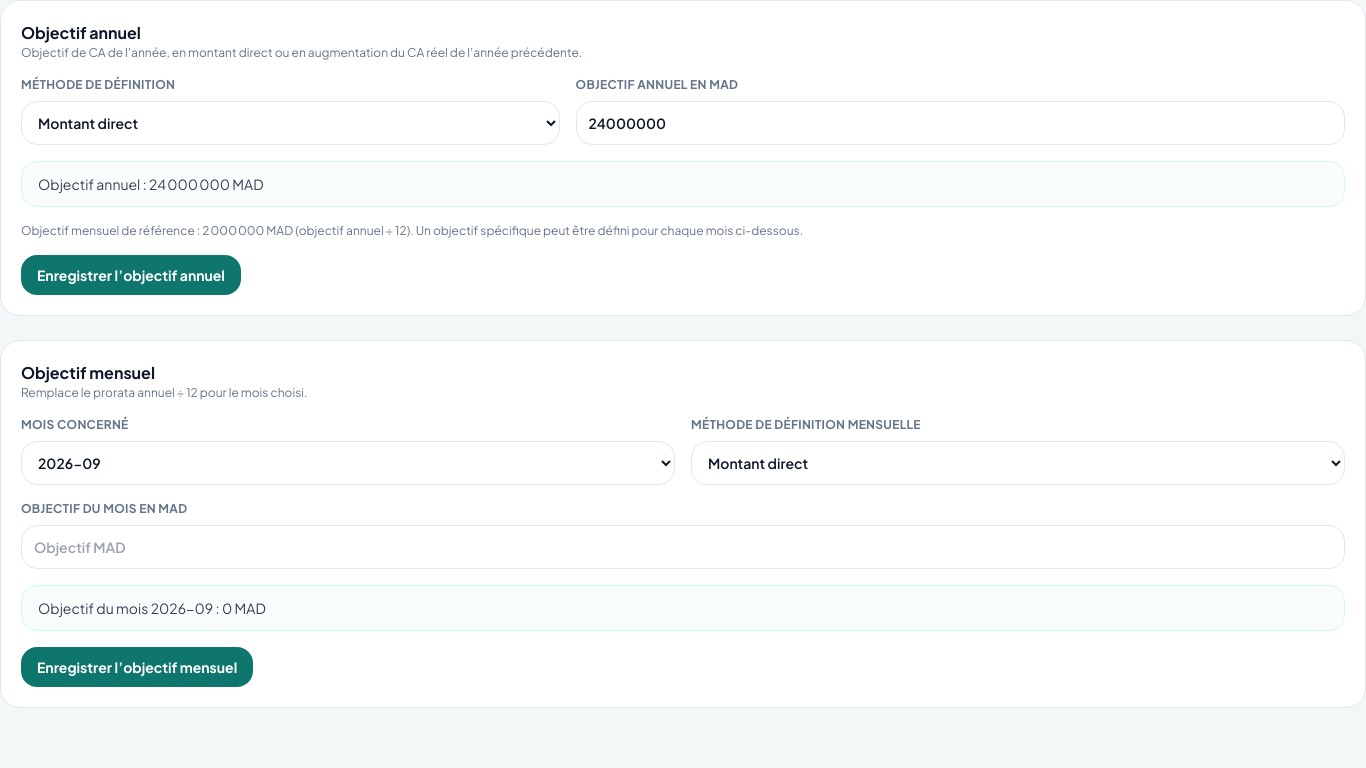
BridgeGoalSettings (table Contrôle) › refuse un objectif annuel direct nul
Replace the text in the number field labelled "Objectif annuel en MAD" with "0" at x=960, y=123, box [576, 101, 1345, 145]
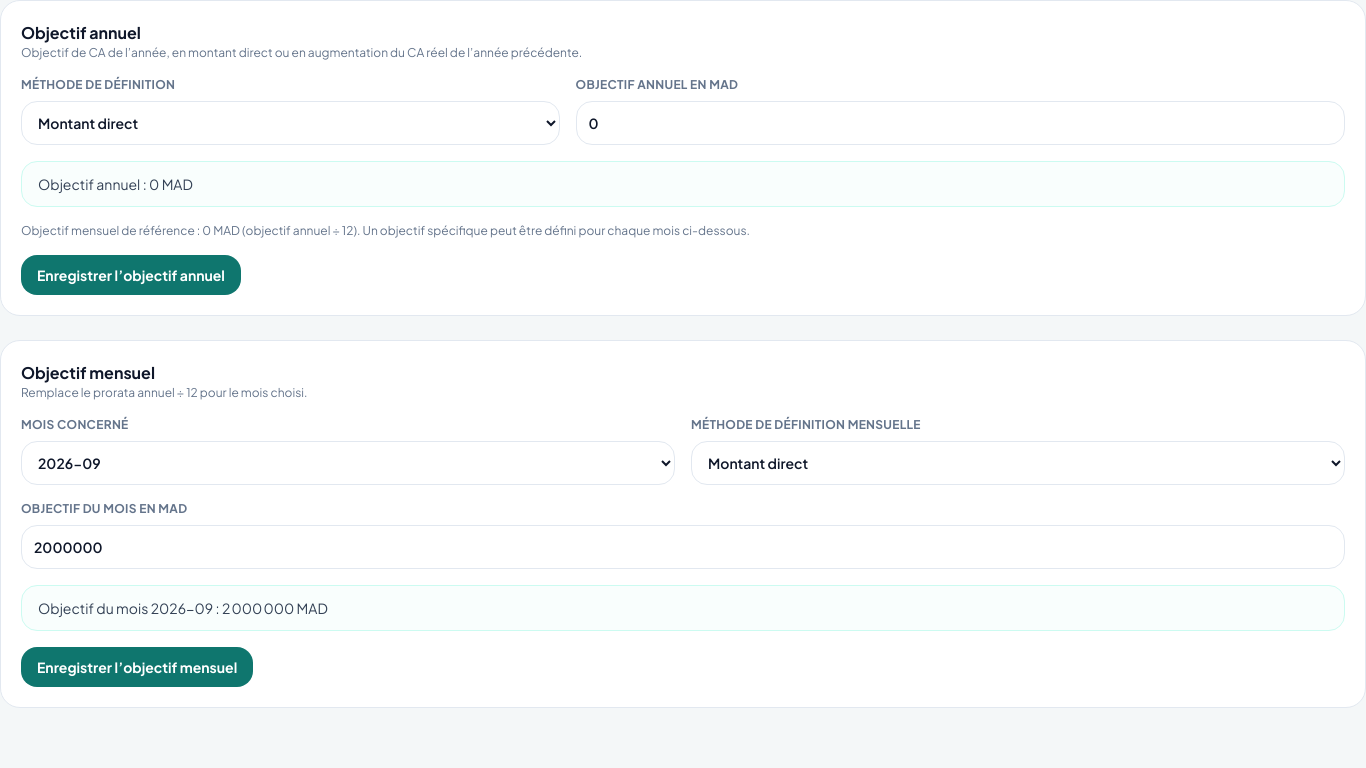
Submit the form named "Objectif annuel Bridge to Goal", box [21, 21, 1345, 295]
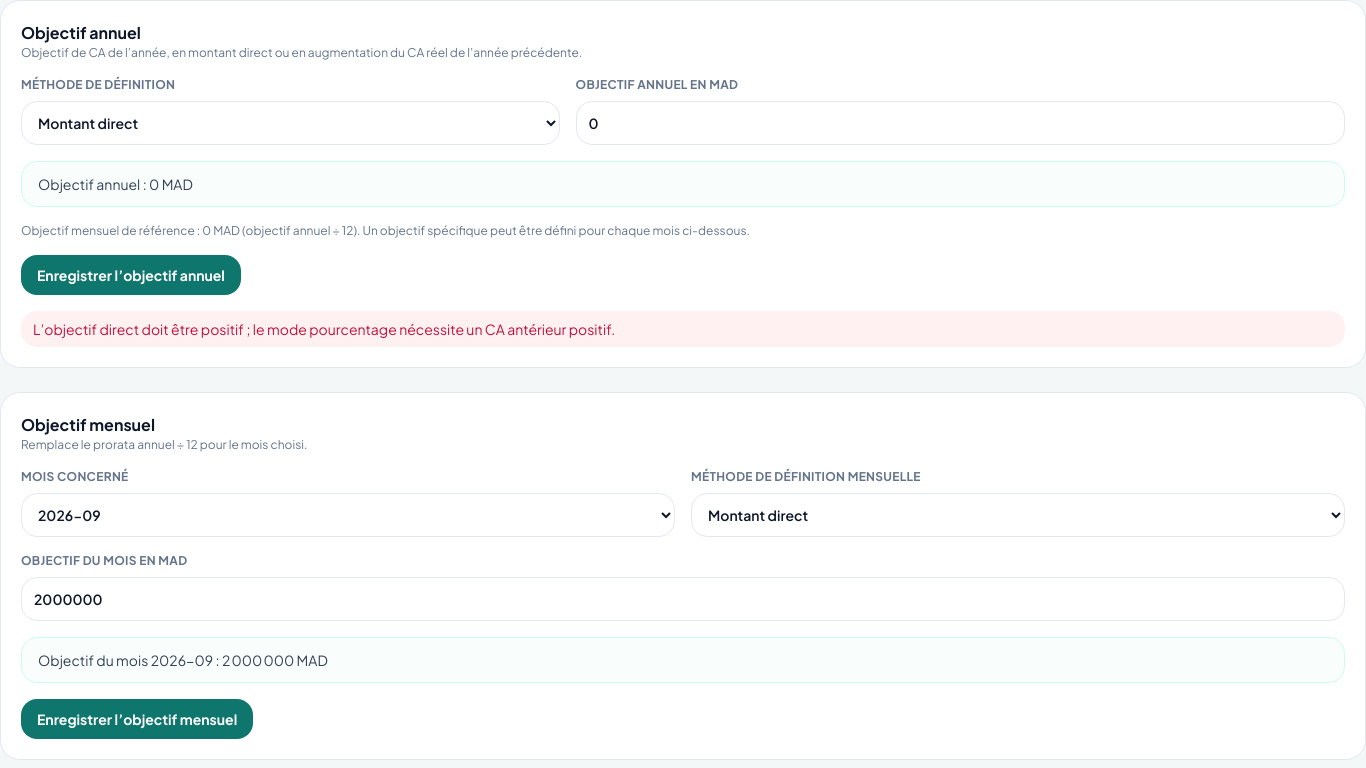
Result: the 2nd message is shown at [21, 311, 1345, 347]
